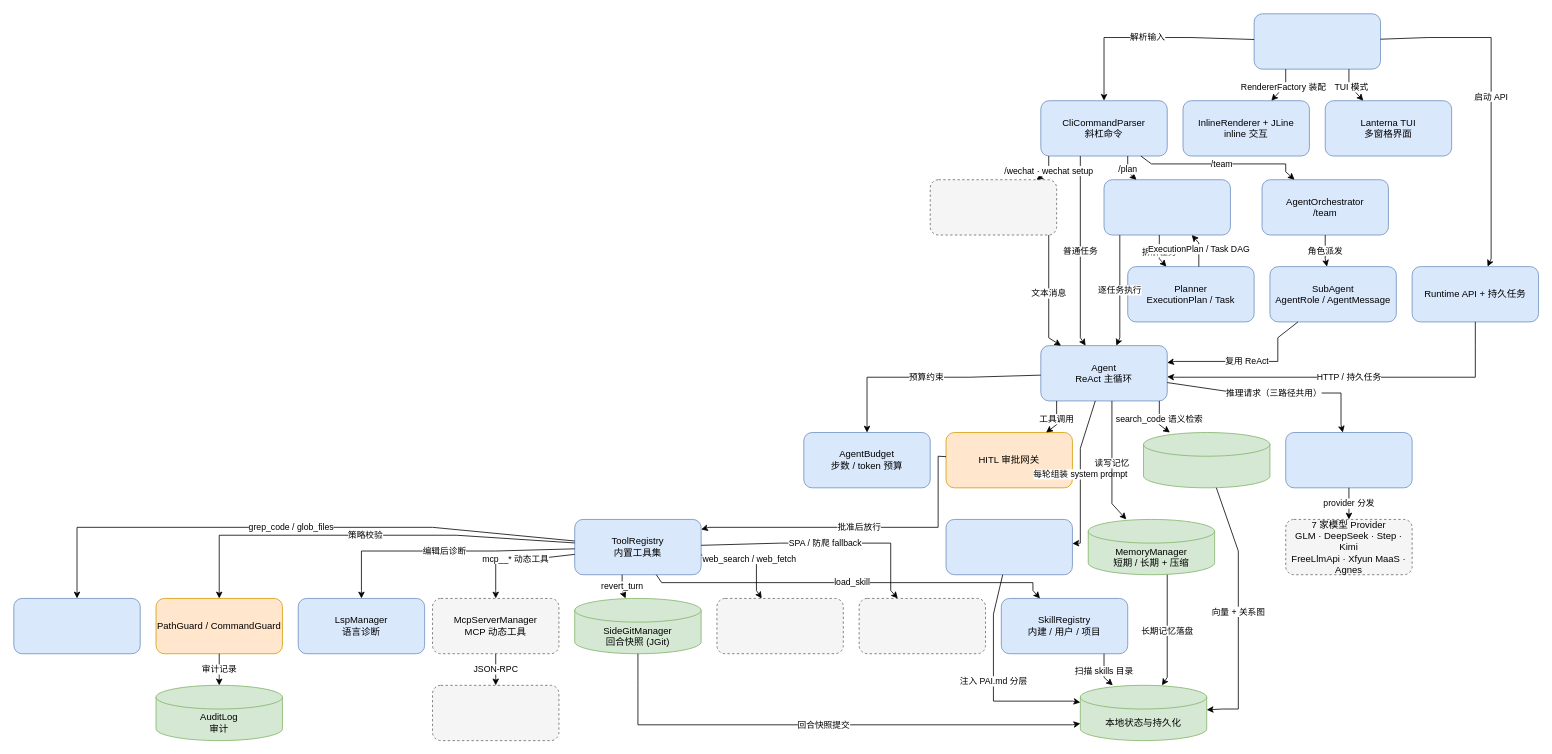
The diagram is 1552 pixels wide and 754 high, and some of its shapes have lost their labels. Here are the shapes that lost their labels. From the top down, the centre of each, then its label:
At [1317,41]: "Main 启动装配".
At [993,207]: "微信 iLink 通道".
At [1166,207]: "PlanExecuteAgent /plan".
At [1206,460]: "CodeIndex + VectorStore RAG 语义检索".
At [1348,460]: "LlmClientFactory".
At [1008,547]: "PromptAssembler 分层提示 + PAI.md".
At [76,626]: "CodeSearchEngine ripgrep 优先 / Java 回退".
At [779,626]: "WebFetcher / SearchProvider".
At [922,626]: "BrowserSession Chrome CDP".
At [495,713]: "stdio / Streamable HTTP".
